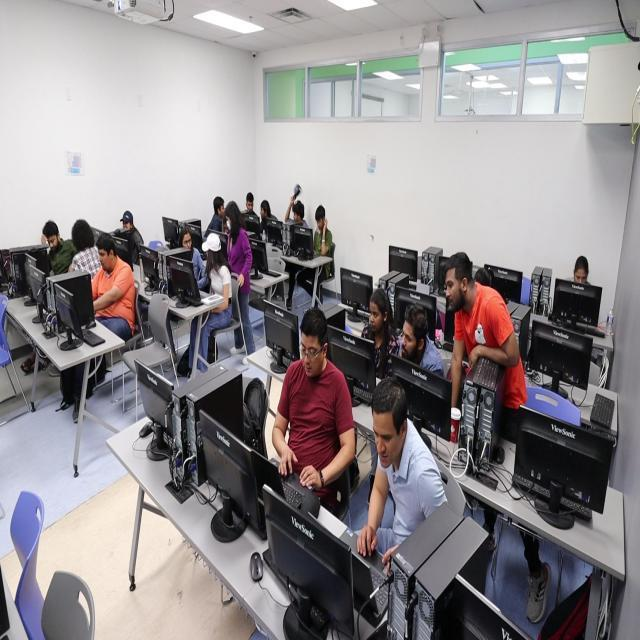Looking away: (371, 409, 397, 470), (300, 333, 322, 379), (444, 268, 462, 313), (97, 248, 110, 272), (574, 266, 588, 286), (182, 233, 192, 250), (314, 214, 324, 230), (48, 236, 58, 252), (122, 220, 131, 232), (218, 205, 226, 218), (246, 200, 254, 212), (292, 210, 300, 222), (260, 206, 266, 218)
Looking forward: (400, 320, 419, 360), (368, 300, 384, 334)
